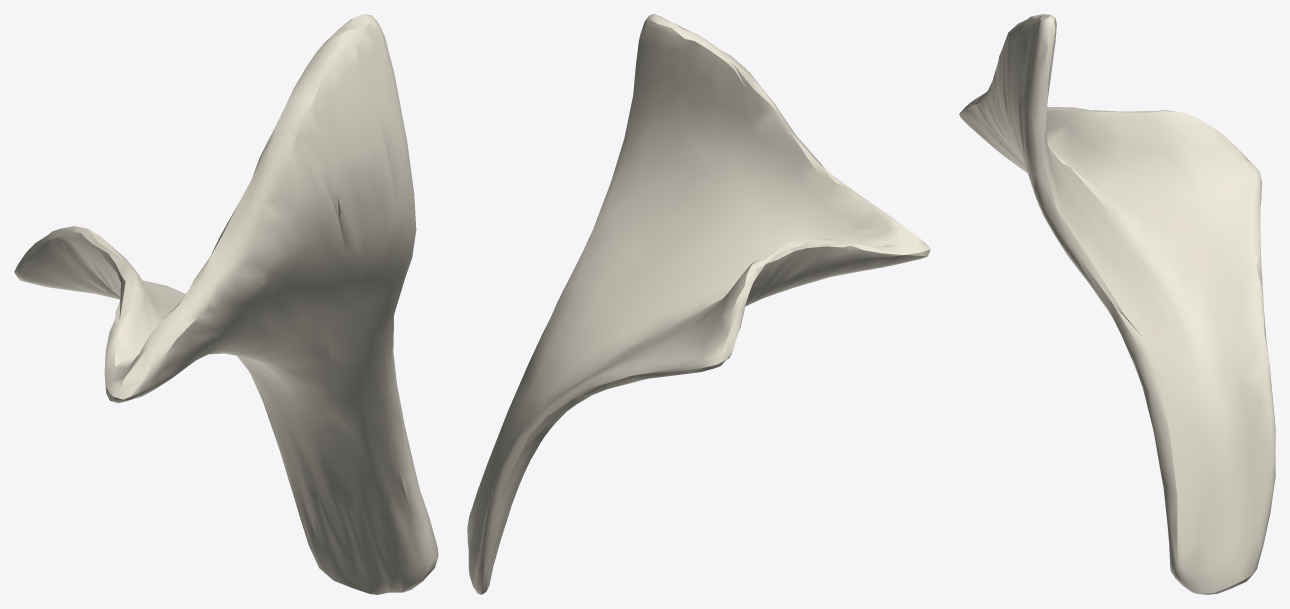
File: fma43026_mm1392.glb
3 renders of one model, left to right at view 1: azimuth 30°, elevation 25°; view 2: azimuth 150°, elevation 25°; view 3: azimuth 270°, elevation 25°, orthographic. The views are drawn at different scales.
Parts seen in each view (by area): view 1: FMA43026_MM1392; view 2: FMA43026_MM1392; view 3: FMA43026_MM1392.
Part boxes in pixels (x1,y1,x2,y2): FMA43026_MM1392: (14,14,438,594); FMA43026_MM1392: (467,14,930,594); FMA43026_MM1392: (959,14,1275,594).
Bounding box in the file's own units: 0.0604 × 0.0859 × 0.0464.
